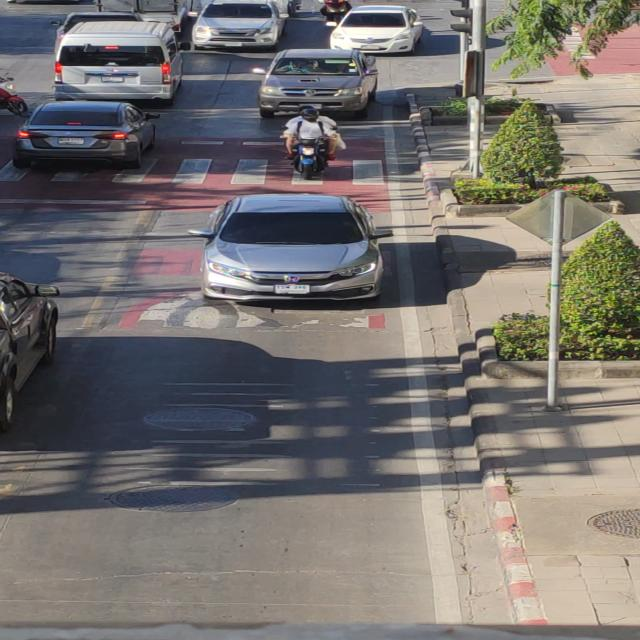car: (190, 188, 414, 314)
